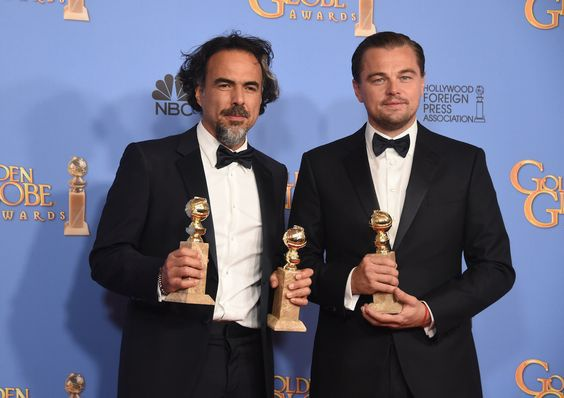hand: (361, 290, 430, 324)
